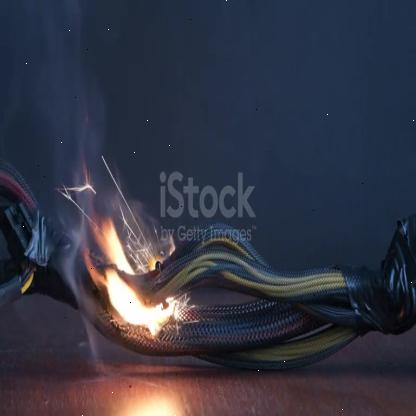fire: (85, 217, 189, 343)
smoke: (11, 6, 132, 399)
